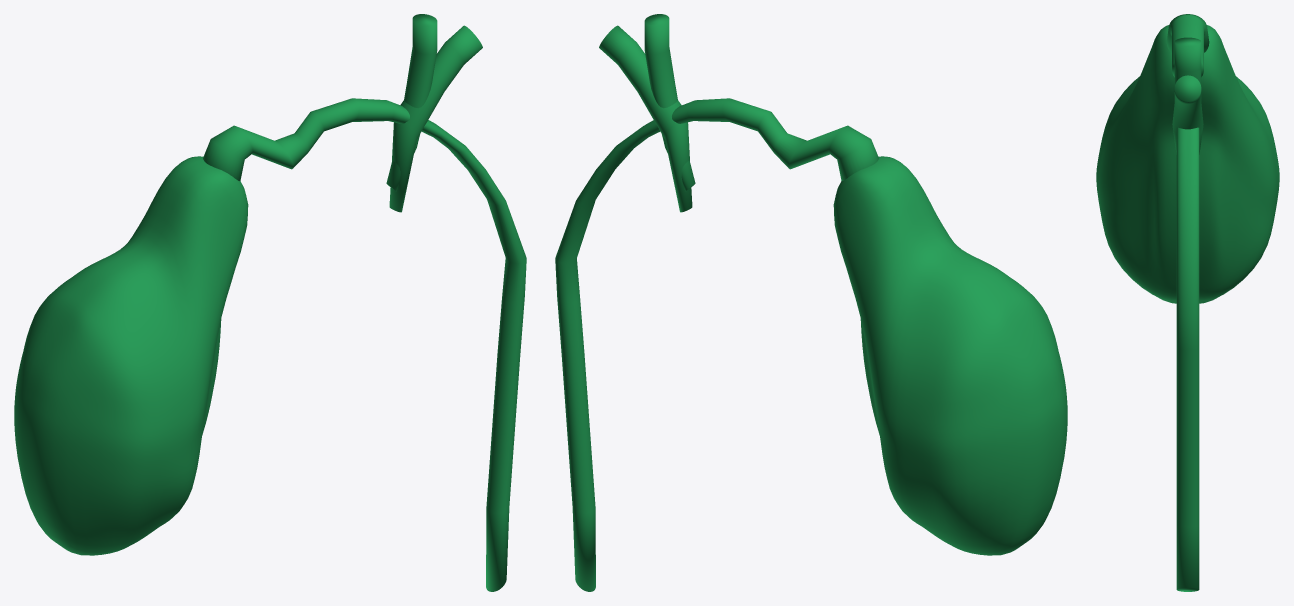
The model's file is Vesicula.fbx.
3 views of the same model, side by side, from view 1: azimuth 30°, elevation 25°; view 2: azimuth 150°, elevation 25°; view 3: azimuth 270°, elevation 25° (orthographic). The views are drawn at different scales.
Visible parts, largest first — view 1: Cube.007; view 2: Cube.007; view 3: Cube.007.
Part boxes in pixels (bbox=[...]): Cube.007: bbox=[14, 14, 526, 591]; Cube.007: bbox=[555, 14, 1067, 591]; Cube.007: bbox=[1096, 14, 1279, 591].
Size of the model in its own units: 14.32 by 16.11 by 5.12.
